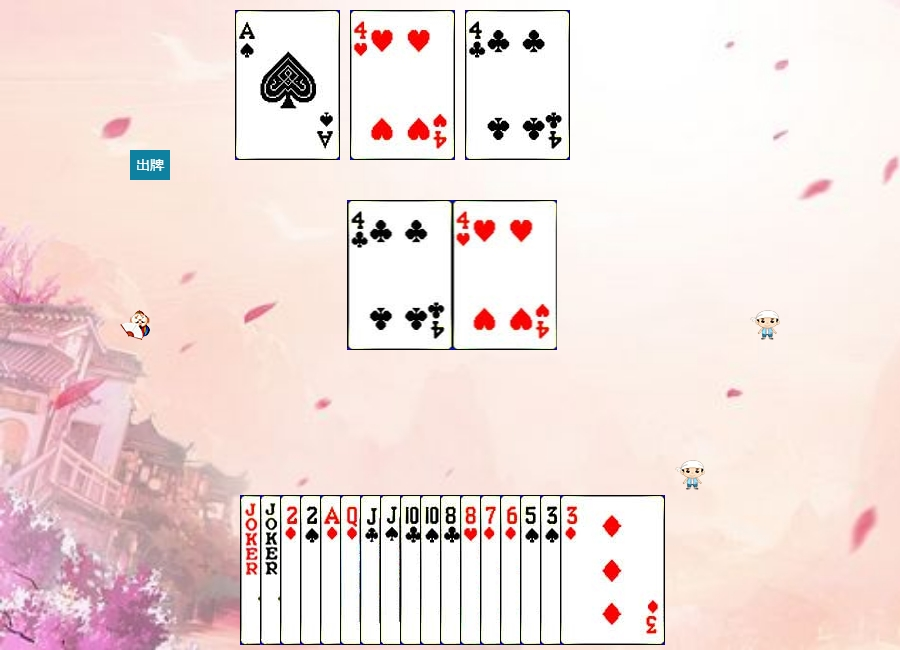10~2: (400, 495, 505, 645)
10~4: (420, 495, 525, 645)
11~2: (360, 495, 465, 645)
11~4: (380, 495, 485, 645)
12~1: (340, 495, 445, 645)
14~1: (320, 495, 425, 645)
14~4: (235, 10, 340, 160)
15~1: (280, 495, 385, 645)
15~4: (300, 495, 405, 645)
17~3: (260, 495, 365, 645)
18~4: (240, 495, 345, 645)
3~1: (560, 495, 665, 645)
3~4: (540, 495, 645, 645)
4~2: (465, 10, 570, 160), (348, 200, 453, 350)
4~3: (350, 10, 455, 160), (453, 200, 558, 350)
5~4: (520, 495, 625, 645)
6~1: (500, 495, 605, 645)
7~1: (480, 495, 585, 645)
8~2: (440, 495, 545, 645)
8~3: (460, 495, 565, 645)
